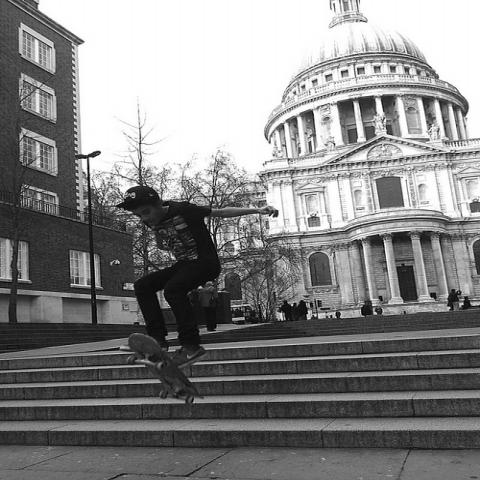bus: (230, 304, 254, 324)
